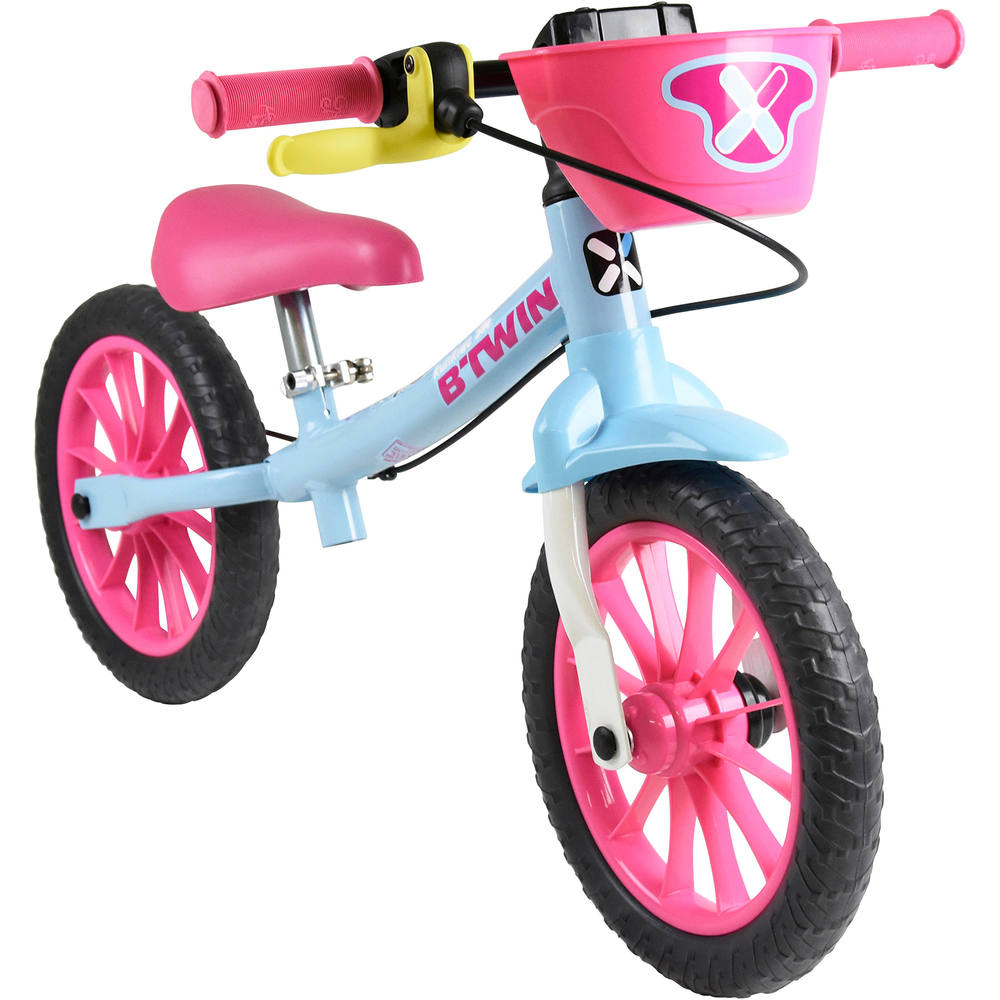RoadBike: (230, 0, 765, 991)
